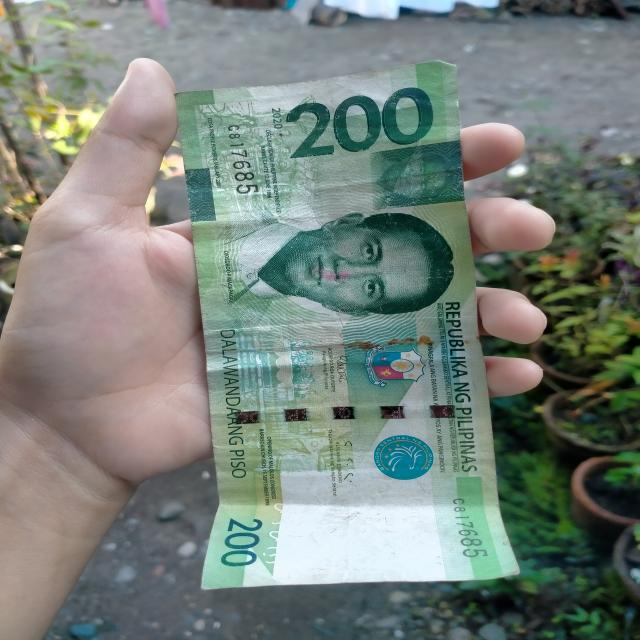concealed_value: (370, 142, 469, 211)
security_thread: (221, 402, 495, 424)
see_through_mark: (250, 496, 307, 575)
serial_number: (224, 115, 266, 211), (449, 493, 495, 558)
value: (275, 82, 431, 156)
